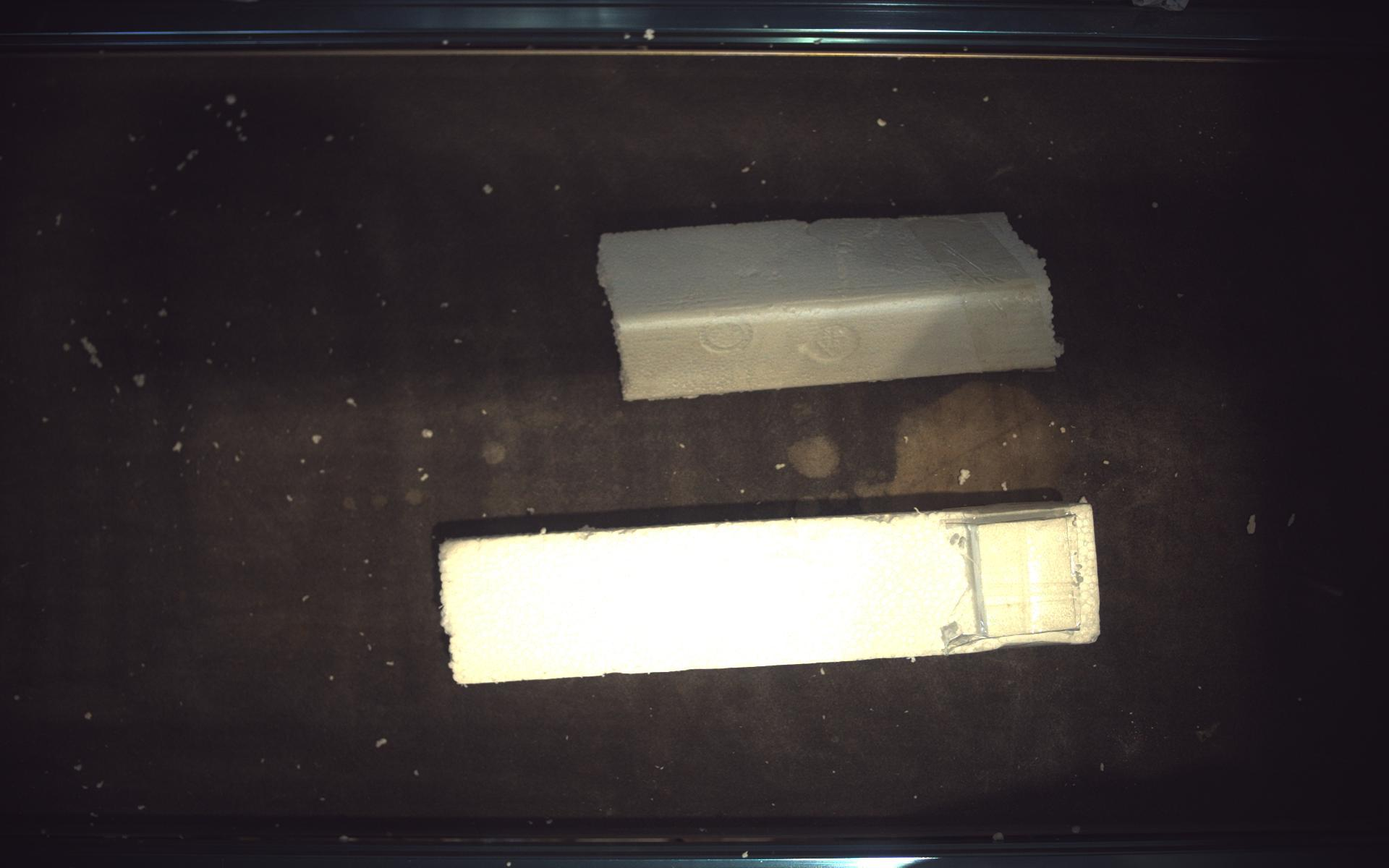foam: (437, 501, 1103, 686), (600, 212, 1064, 400)
